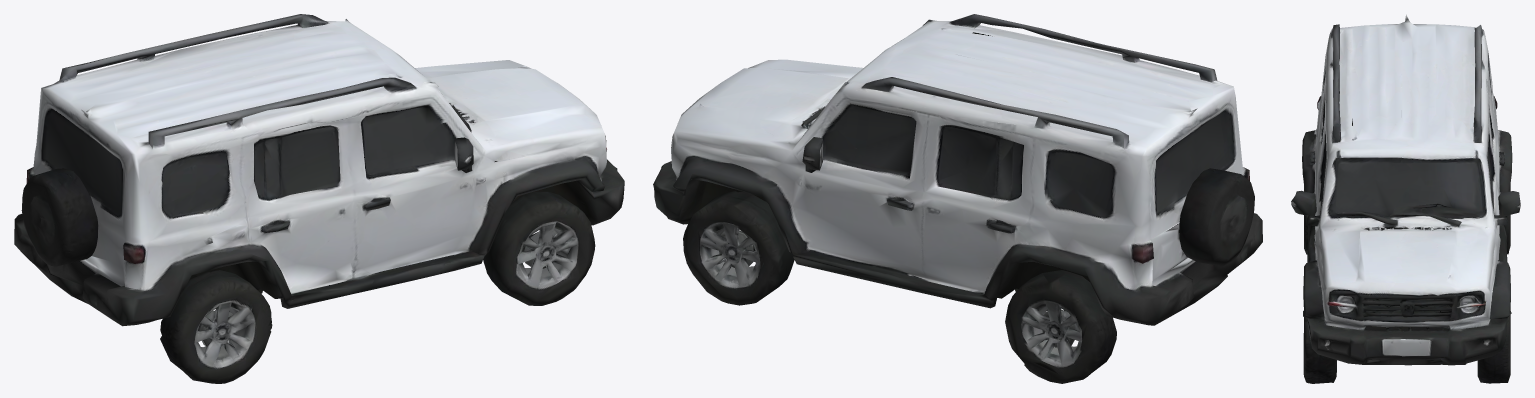
File: car_suv.glb
The picture shows the model from 3 angles, left to right: view 1: azimuth 30°, elevation 25°; view 2: azimuth 150°, elevation 25°; view 3: azimuth 270°, elevation 25°; orthographic projection. The views are drawn at different scales.
Visible parts, largest first — view 1: tripo_node_7456d7ff-4214-4e68-8fb9-6a28e6ac3578; view 2: tripo_node_7456d7ff-4214-4e68-8fb9-6a28e6ac3578; view 3: tripo_node_7456d7ff-4214-4e68-8fb9-6a28e6ac3578.
Part boxes in pixels (box(x1,y1,x2,y2)): tripo_node_7456d7ff-4214-4e68-8fb9-6a28e6ac3578: box(14, 14, 624, 383); tripo_node_7456d7ff-4214-4e68-8fb9-6a28e6ac3578: box(653, 14, 1262, 383); tripo_node_7456d7ff-4214-4e68-8fb9-6a28e6ac3578: box(1291, 14, 1520, 383).
Size of the model in its own units: 0.9997 by 0.4447 by 0.4505.
Materials: 1 (1 with a texture image).
